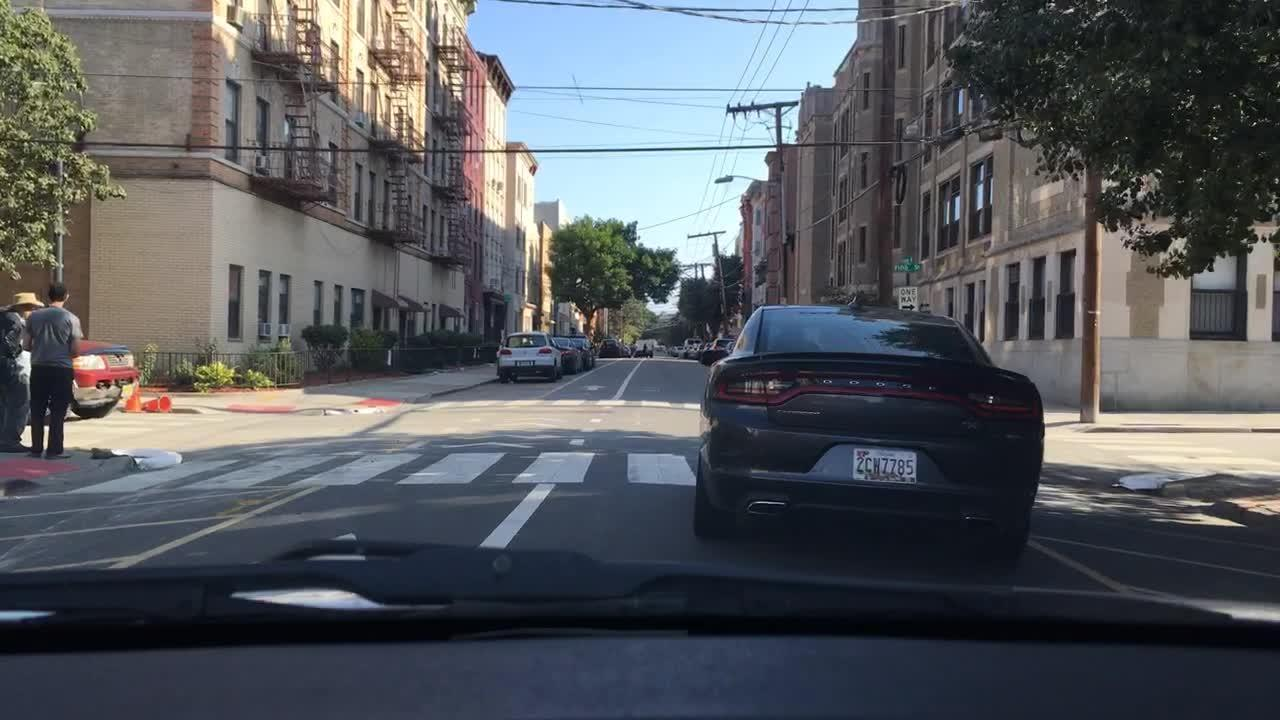dodge: (818, 371, 941, 395)
